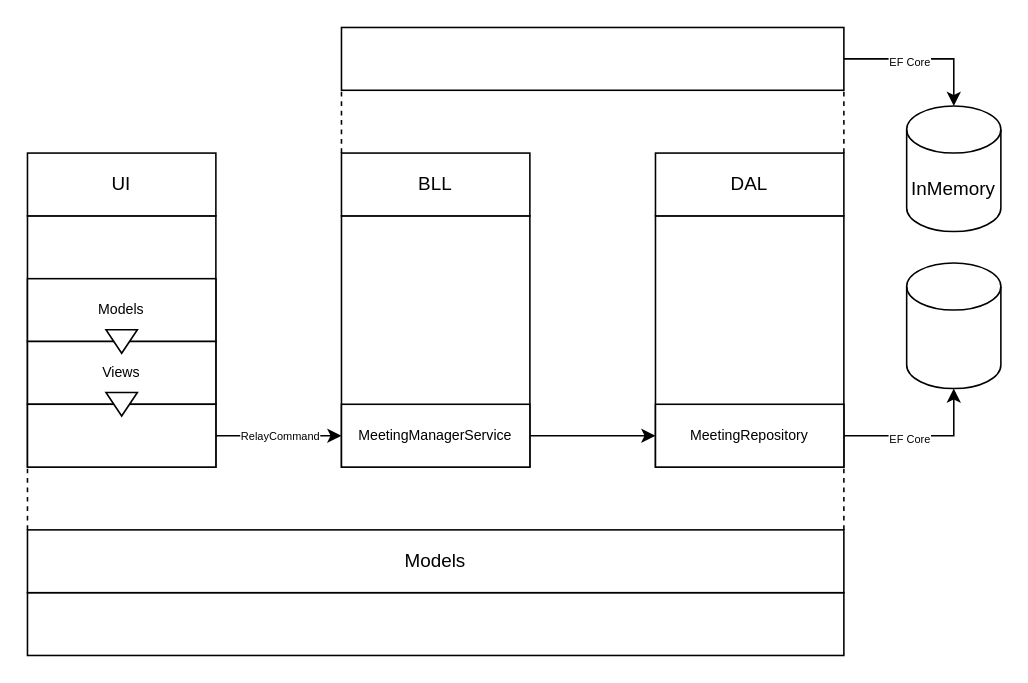
This 1028x683 diagram has some shape labels left out. The shapes that lost their labels are listed below. From the top down, each one's box as (x1, y1, x2, y2) in pixels, then its label:
(340, 26, 844, 90): UnitTests
(340, 214, 530, 467): AppSettings ServiceFactory ReportService LoggingService
(905, 261, 1001, 389): SQLite
(26, 403, 216, 467): ViewModels
(26, 591, 844, 655): Meeting Note
